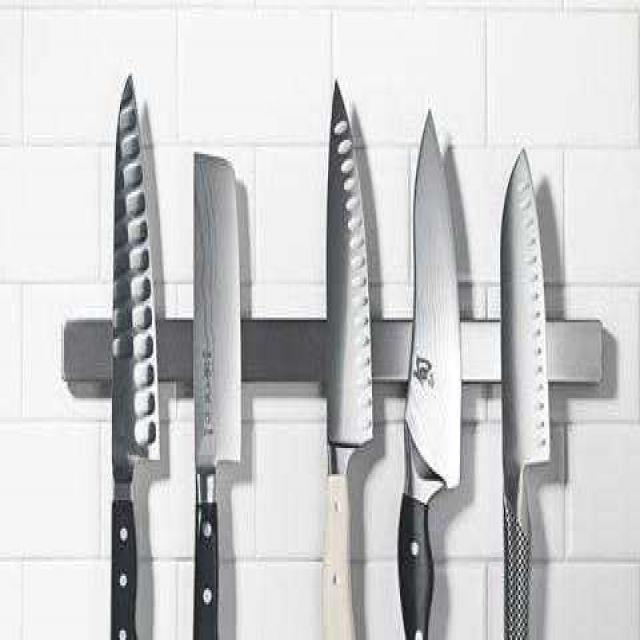weapon: (84, 50, 640, 640)
